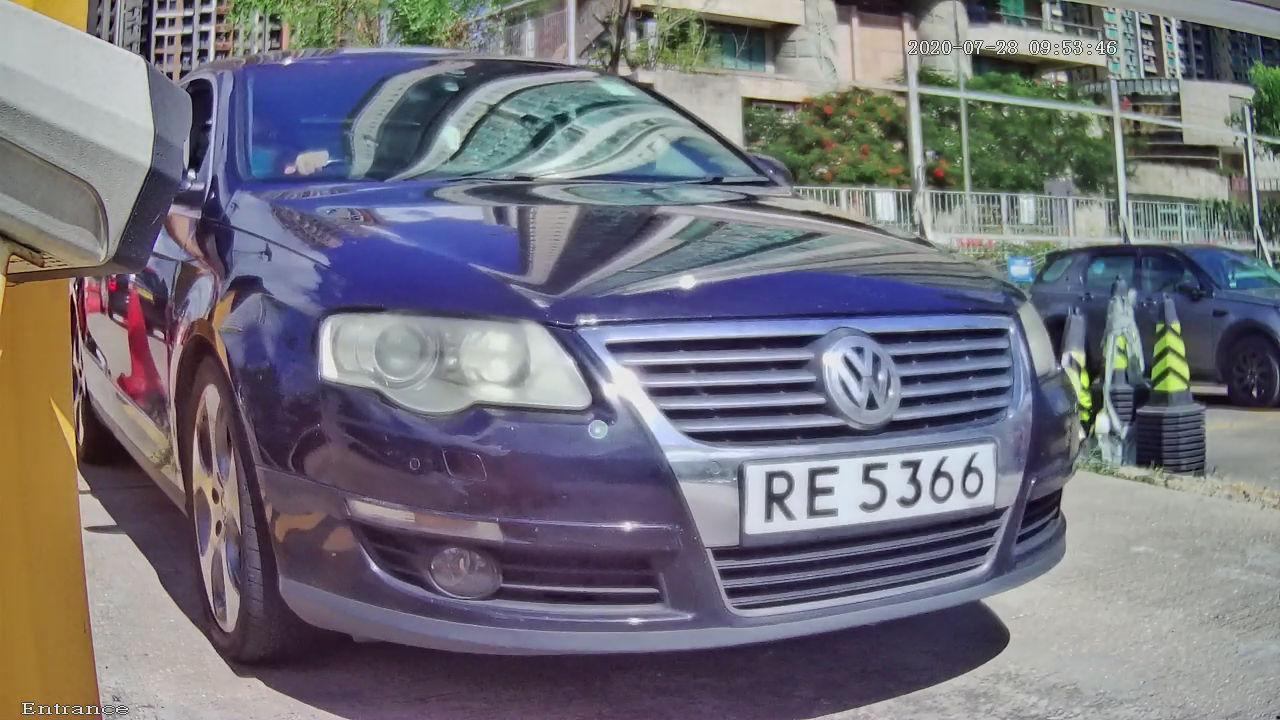privatecar: (29, 20, 1206, 704)
